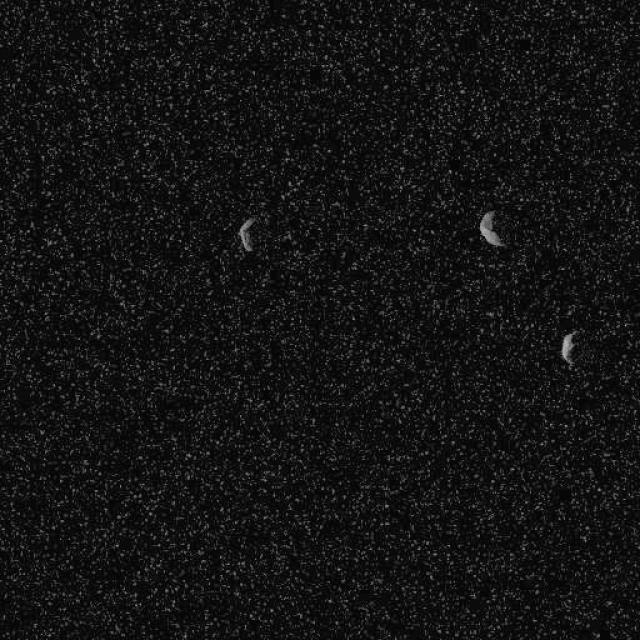D2: (477, 208, 505, 248), (236, 215, 256, 253), (559, 330, 576, 366)
